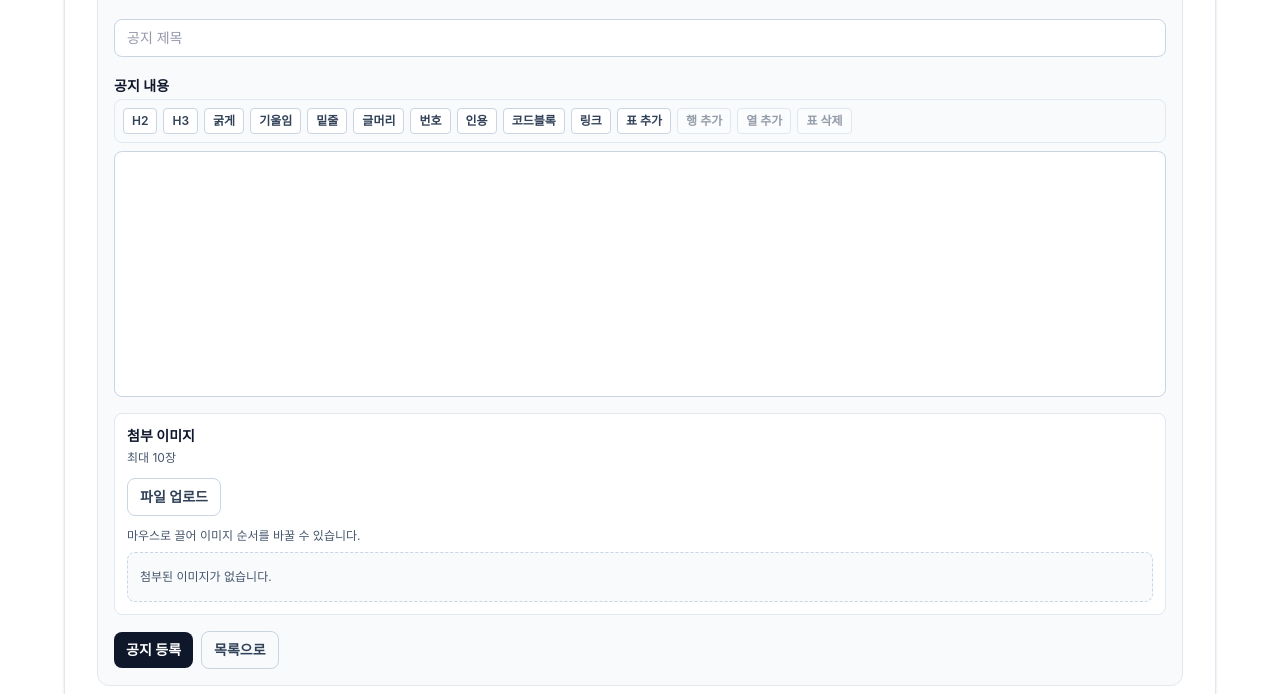
Test: NoticeCreateForm › validates title and content
(page scrolled)
Step 1. Click the button with test id "notice-create-submit" → (154, 650), box [114,632,193,668]
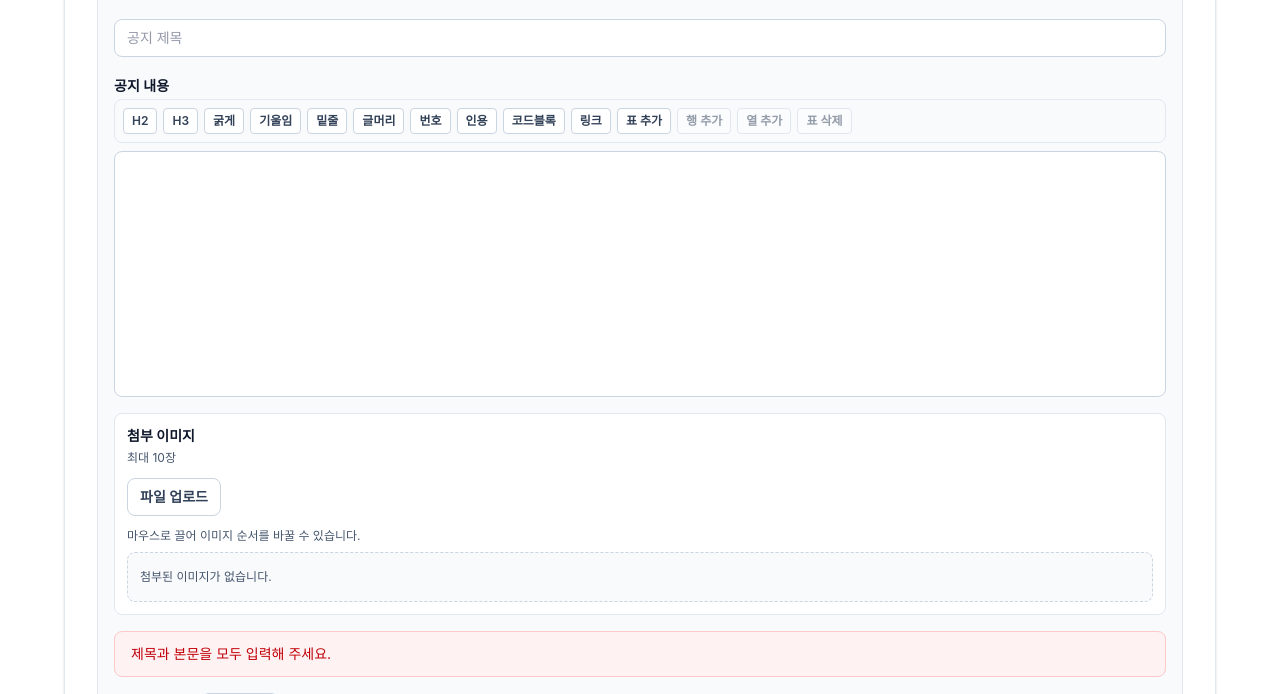
Expected: the text "제목과 본문을 모두 입력해 주세요." is shown, [114,631,1166,677]
